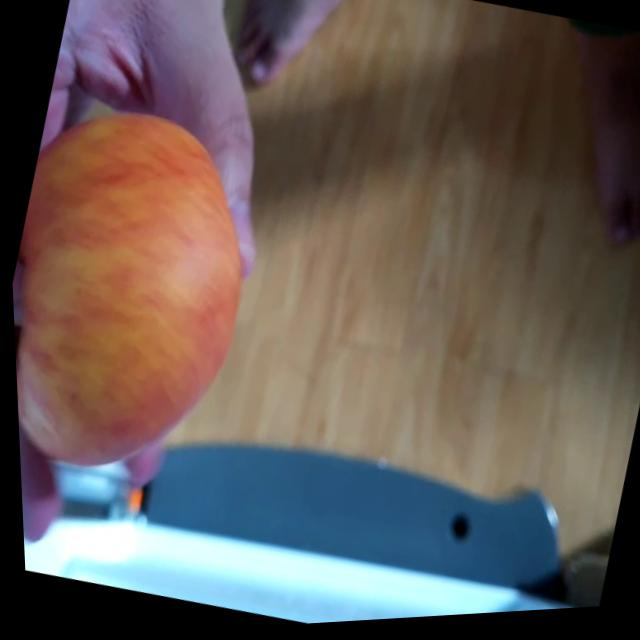apple: (3, 85, 291, 506)
